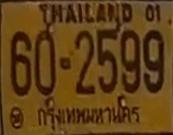0: (34, 30, 55, 95)
2: (74, 31, 94, 94)
5: (96, 29, 118, 93)
6: (10, 31, 32, 96)
9: (142, 31, 164, 92), (120, 30, 140, 92)
BKK: (33, 100, 144, 129)
